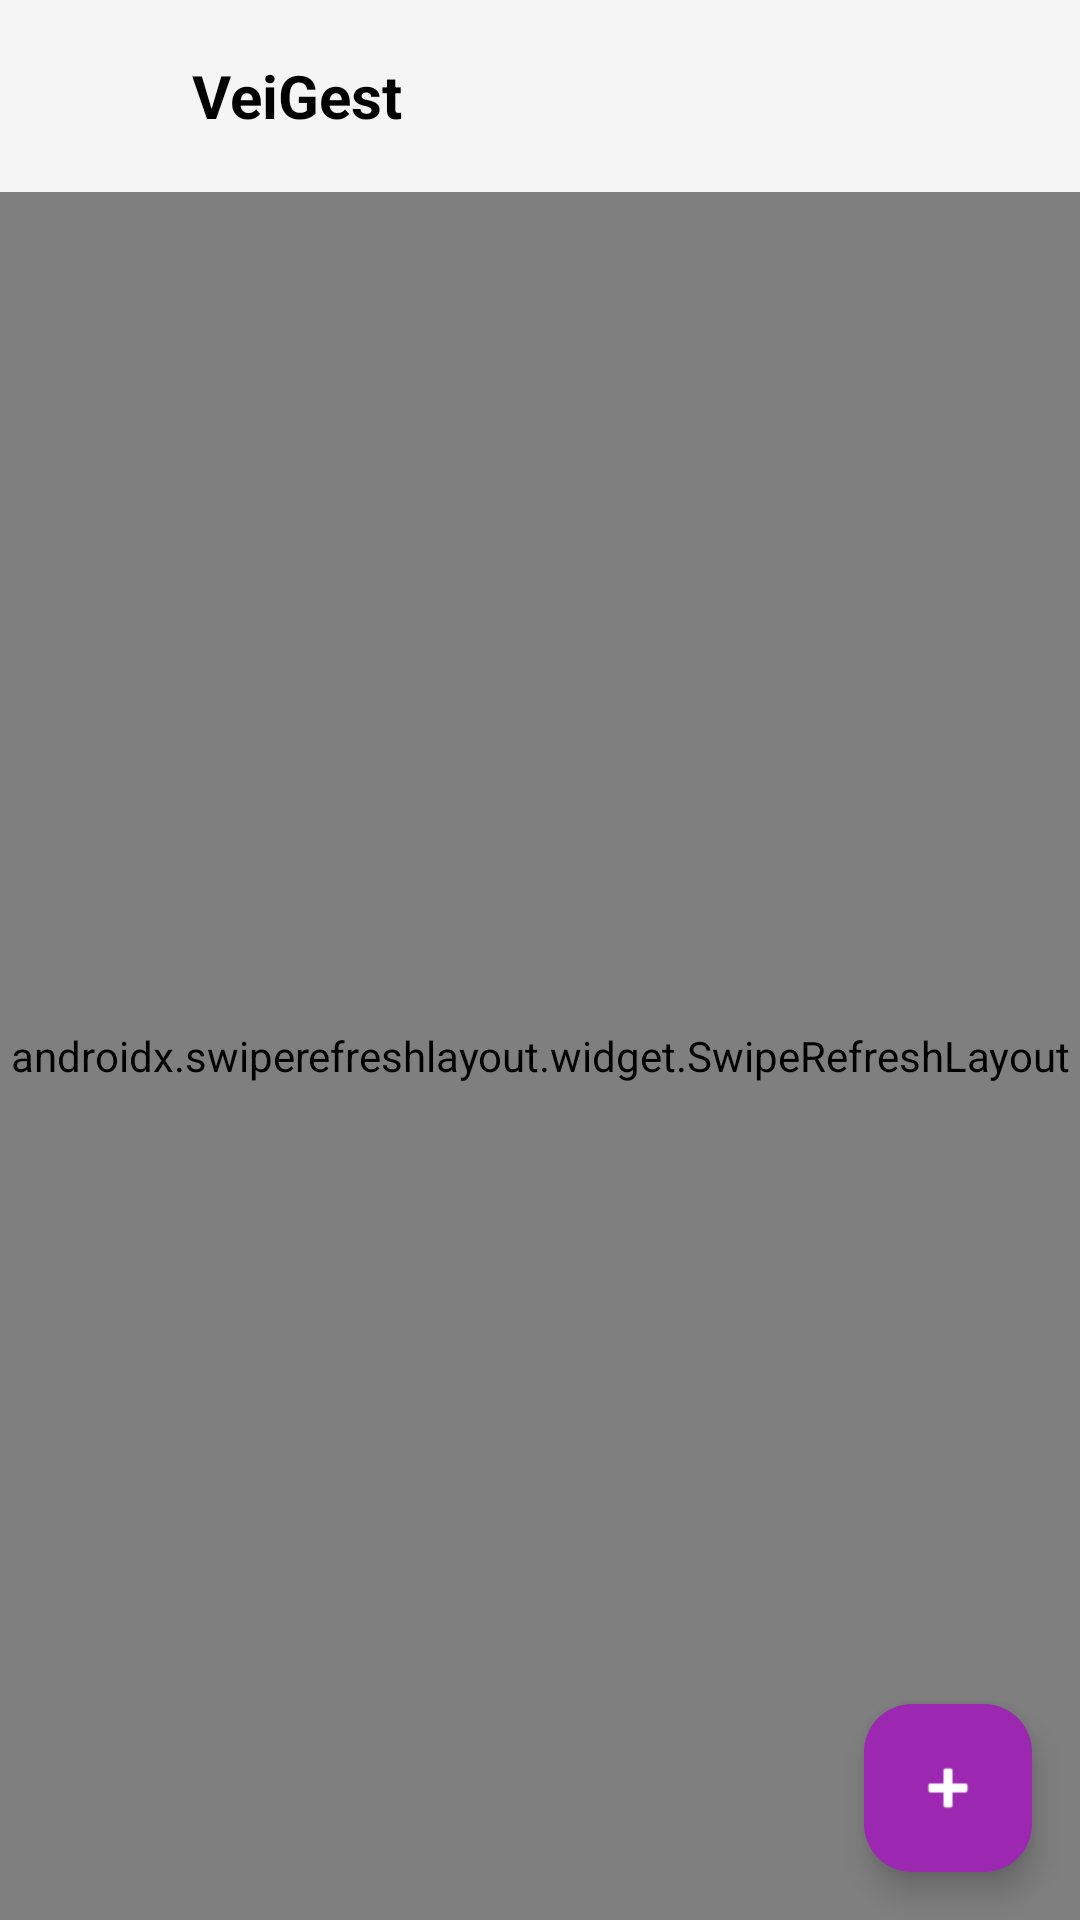

Screen size 1080 × 1920. Icon name, then its center in pixels as (x=x, y=y):
Adicionar Veículo: (x=948, y=1788)
